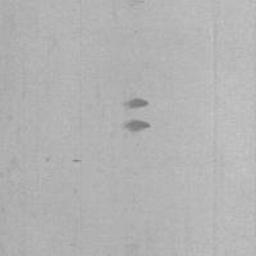Oil spot: (122, 118, 151, 133), (122, 97, 148, 110)
